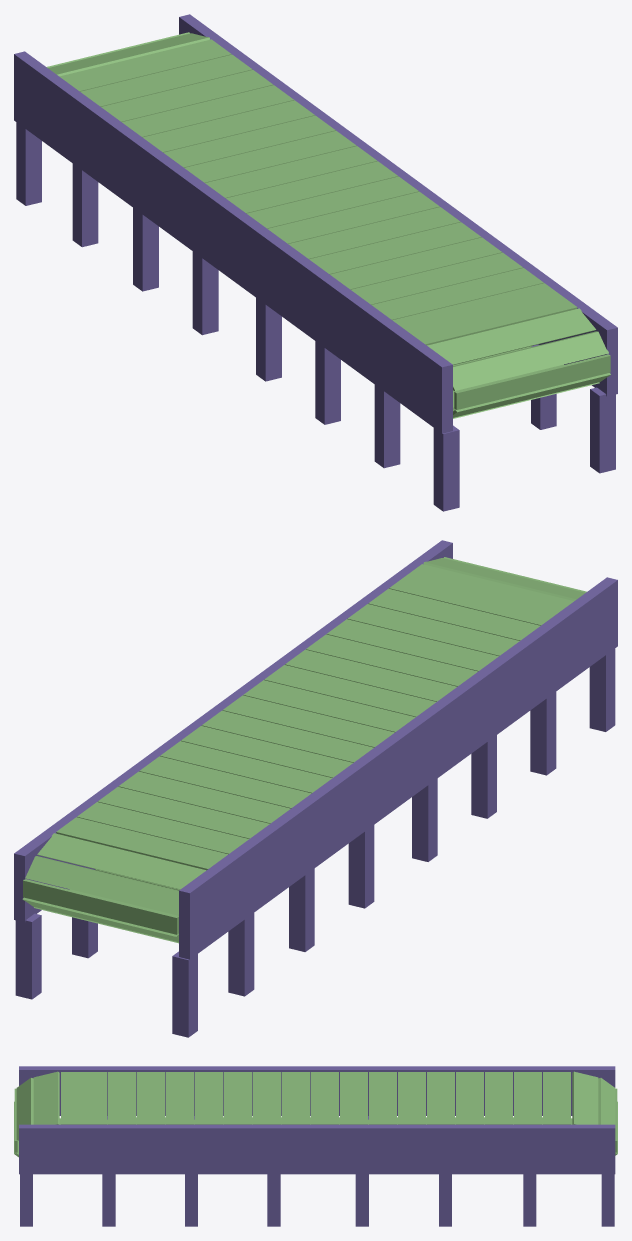
The model's file is Conveyerbelt.fbx.
The picture shows the model from 3 angles, top to bottom: view 1: azimuth 30°, elevation 25°; view 2: azimuth 150°, elevation 25°; view 3: azimuth 270°, elevation 25°; orthographic projection. The views are drawn at different scales.
Parts seen in each view (by area): view 1: pCube84; view 2: pCube84; view 3: pCube84.
Part boxes in pixels (<box>): pCube84: <box>14,14,617,511</box>; pCube84: <box>14,540,617,1037</box>; pCube84: <box>14,1066,617,1226</box>.
Bounding box in the file's own units: 5.03 × 3.97 × 21.45.
